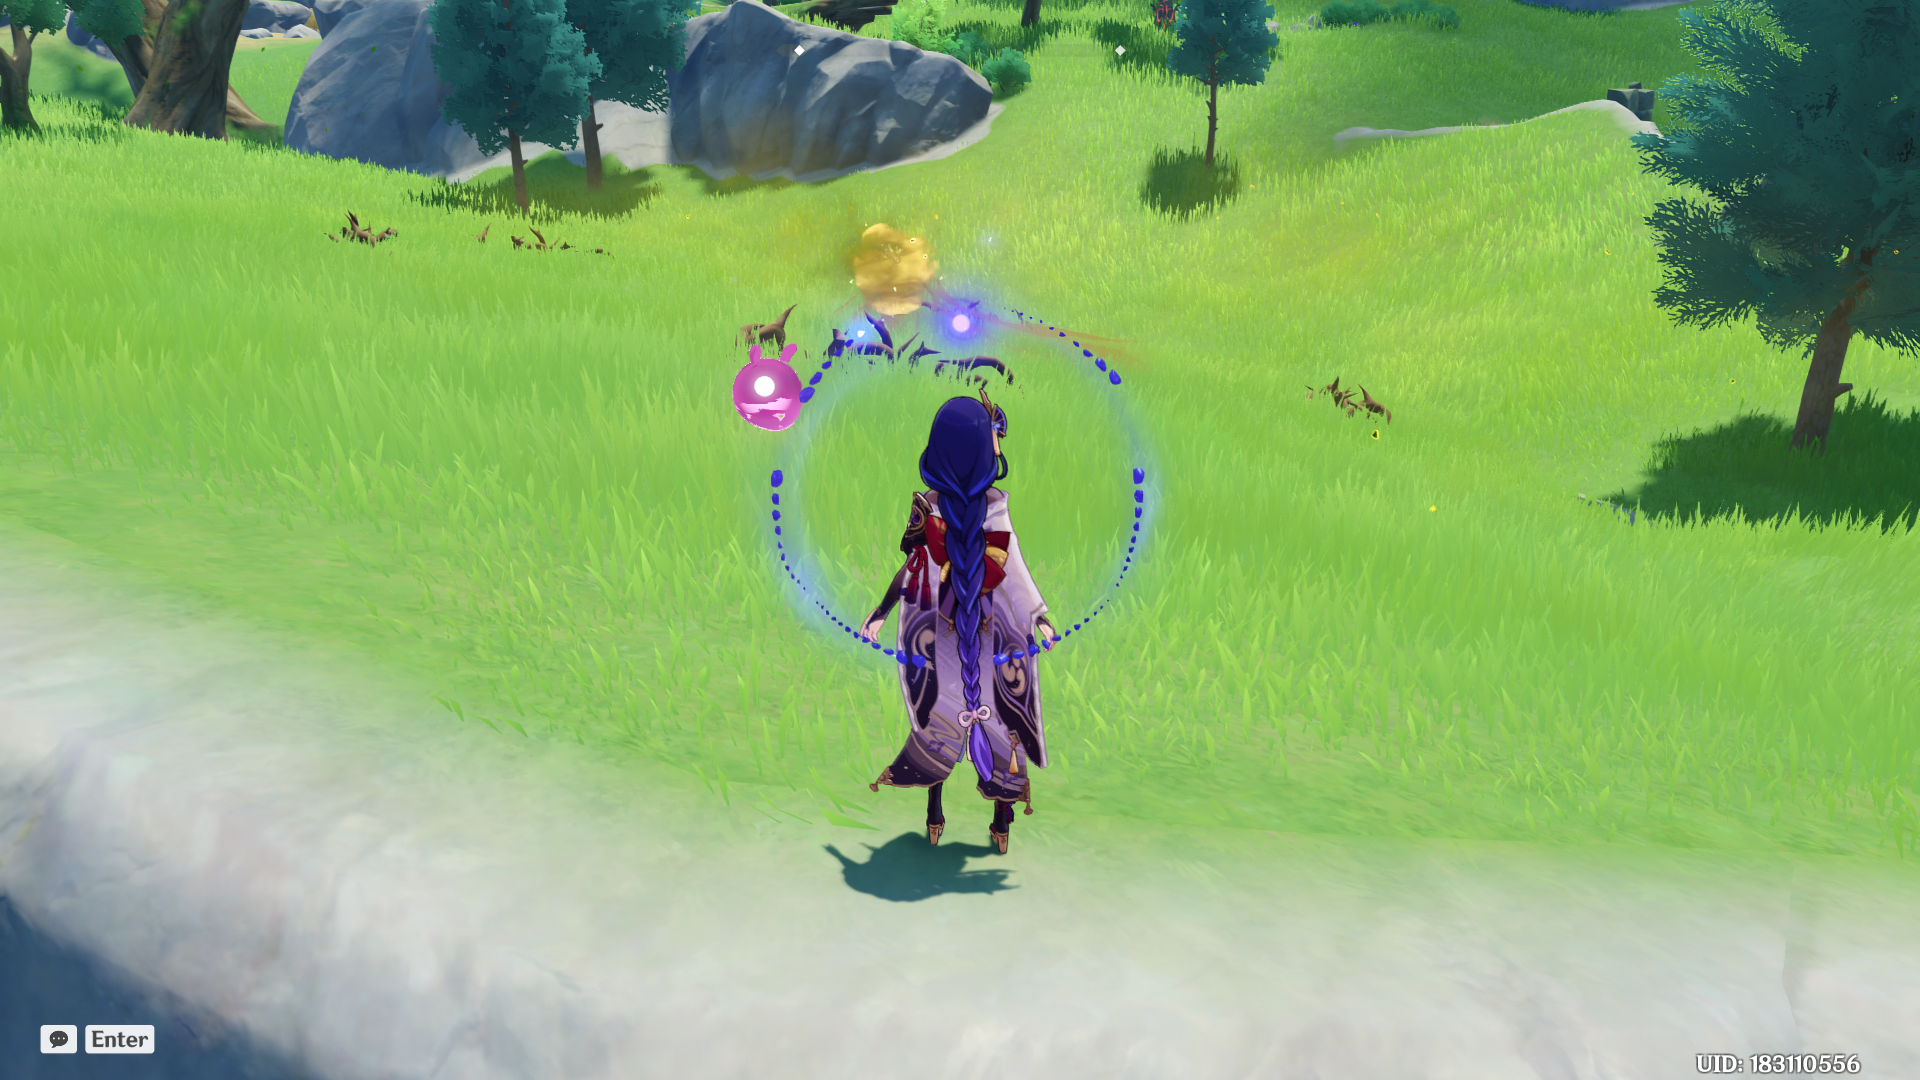character: (836, 375, 1126, 938)
